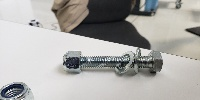FinishedAssembly: (57, 46, 166, 78)
